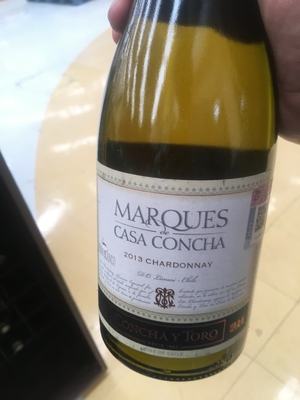marques de casa concha chardonnay: (98, 7, 281, 374)
